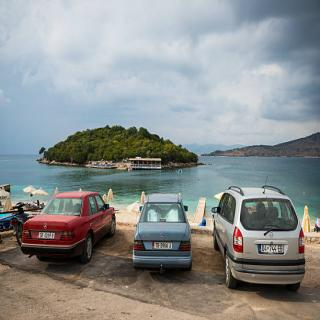Normal_vehicle: (210, 183, 309, 288), (24, 185, 119, 268), (135, 189, 194, 267)
